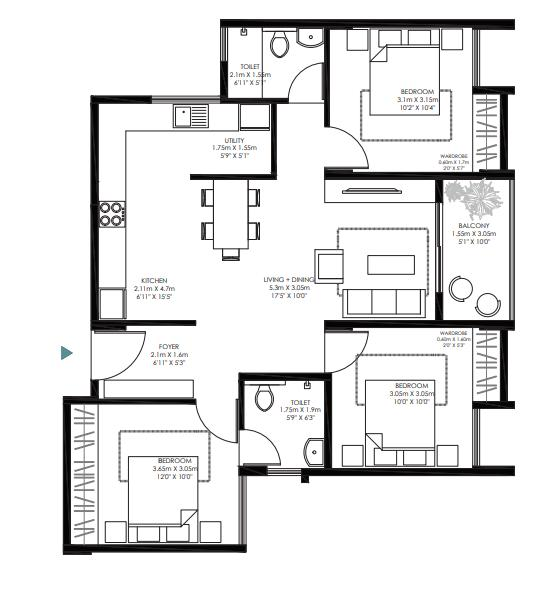Balcony: (444, 182, 511, 320)
Bed: (362, 374, 438, 470), (130, 455, 197, 542), (370, 32, 439, 115)
Bedroom: (328, 331, 472, 471), (330, 31, 472, 172), (99, 404, 239, 546)
Dining Room: (195, 178, 279, 319)
Dining table: (188, 176, 268, 266)
Foyer: (93, 323, 239, 397)
Kitchen: (98, 105, 188, 322)
Living Room: (193, 105, 435, 374)
Sofa: (340, 292, 425, 313), (315, 252, 343, 282)
Wardrobe: (73, 404, 95, 545), (472, 93, 504, 172), (475, 331, 500, 405)
commode: (254, 382, 279, 412), (270, 30, 292, 57)
door: (91, 332, 155, 382), (325, 330, 370, 379), (194, 399, 239, 447), (324, 128, 371, 167), (242, 426, 283, 464), (286, 61, 325, 98), (289, 63, 323, 104)
kitchen-slab: (98, 104, 126, 287), (99, 103, 238, 130)
sink: (174, 105, 209, 128), (304, 436, 327, 468), (298, 26, 324, 45)
stove: (98, 202, 127, 227)
toilet: (243, 381, 325, 467), (226, 27, 325, 97)
tv: (336, 183, 404, 209)
utility: (174, 104, 273, 176)
